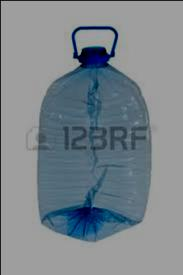Plastic: (29, 20, 153, 246)
